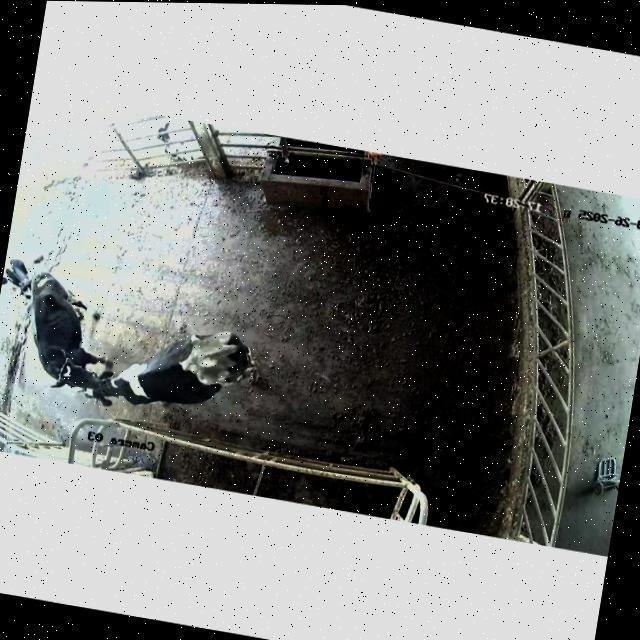stand: (84, 331, 252, 405), (29, 272, 111, 388)
